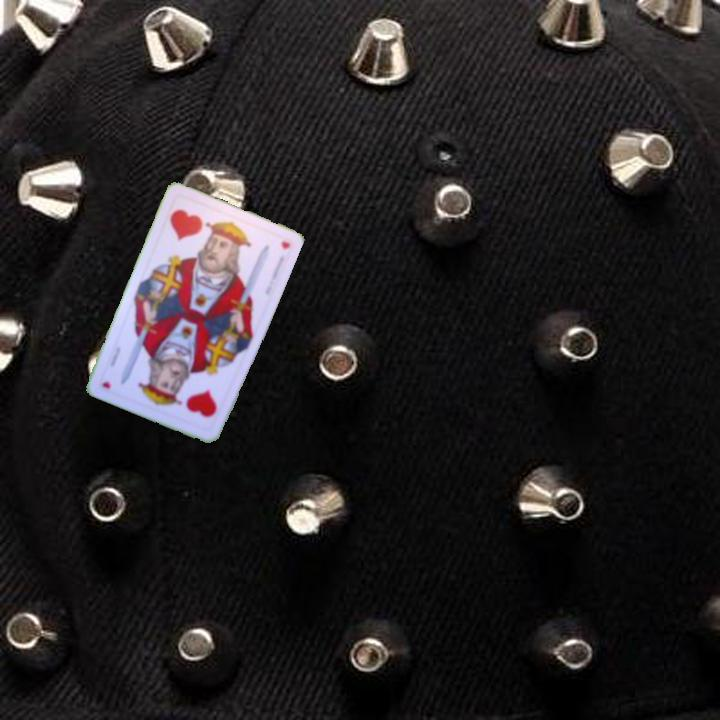h_k.png: (152, 357, 234, 434), (154, 192, 236, 269)
